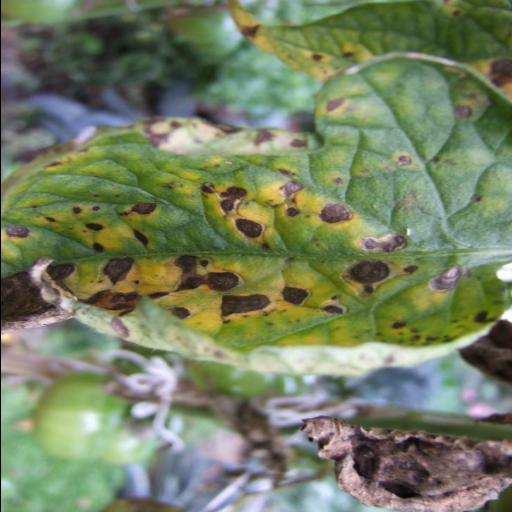Early Blight: (0, 53, 512, 375)
